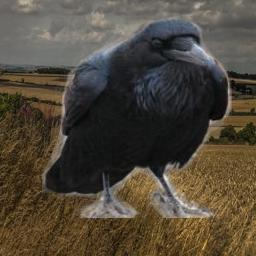Crow: (42, 16, 232, 218)
Cuckoo: (107, 26, 183, 129)
